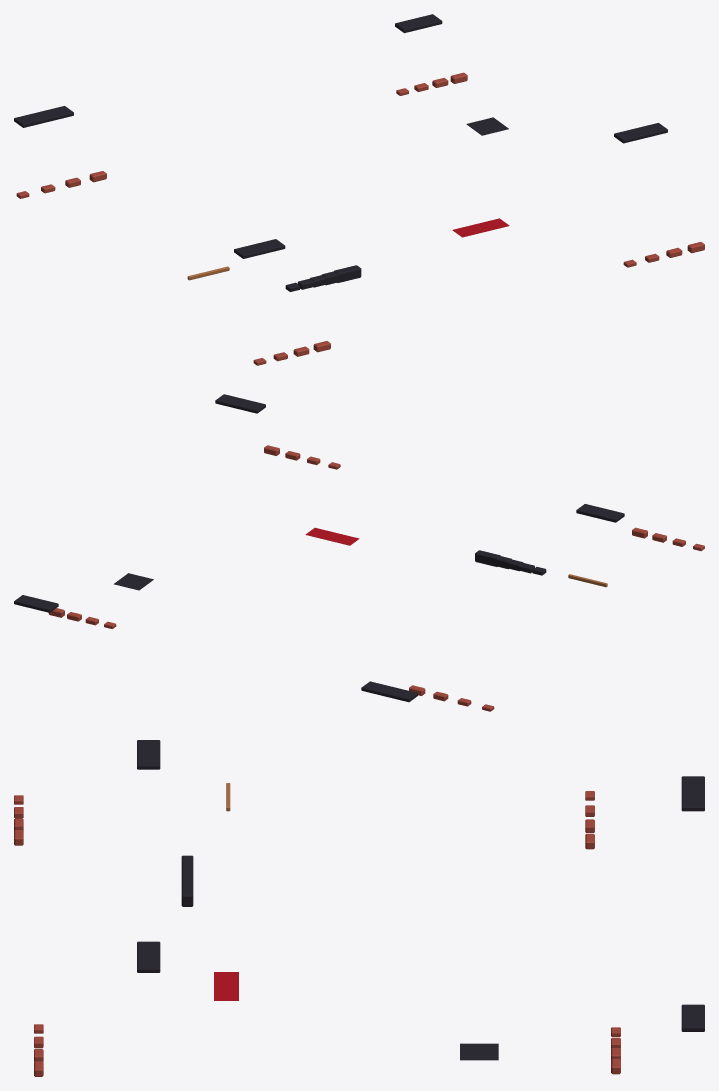
Rendered from D-SHOP.w5.glb.
The picture shows the model from 3 angles, top to bottom: view 1: azimuth 30°, elevation 25°; view 2: azimuth 150°, elevation 25°; view 3: azimuth 270°, elevation 25°; orthographic projection. The views are drawn at different scales.
Parts seen in each view (by area): view 1: pal_uiDark.003, pal_brick.003; view 2: pal_uiDark.003, pal_brick.003; view 3: pal_uiDark.003, pal_brick.003, pal_blood.003.
Boxes of the visible parts, box(x1,y1,x2,y2) form: pal_uiDark.003: box(14, 14, 667, 291); pal_brick.003: box(16, 72, 704, 365); pal_uiDark.003: box(14, 394, 624, 702); pal_brick.003: box(48, 445, 704, 711); pal_uiDark.003: box(137, 740, 704, 1060); pal_brick.003: box(14, 791, 620, 1076); pal_blood.003: box(214, 972, 238, 1000).
Size of the model in its own units: 34.43 by 6.43 by 35.52.
